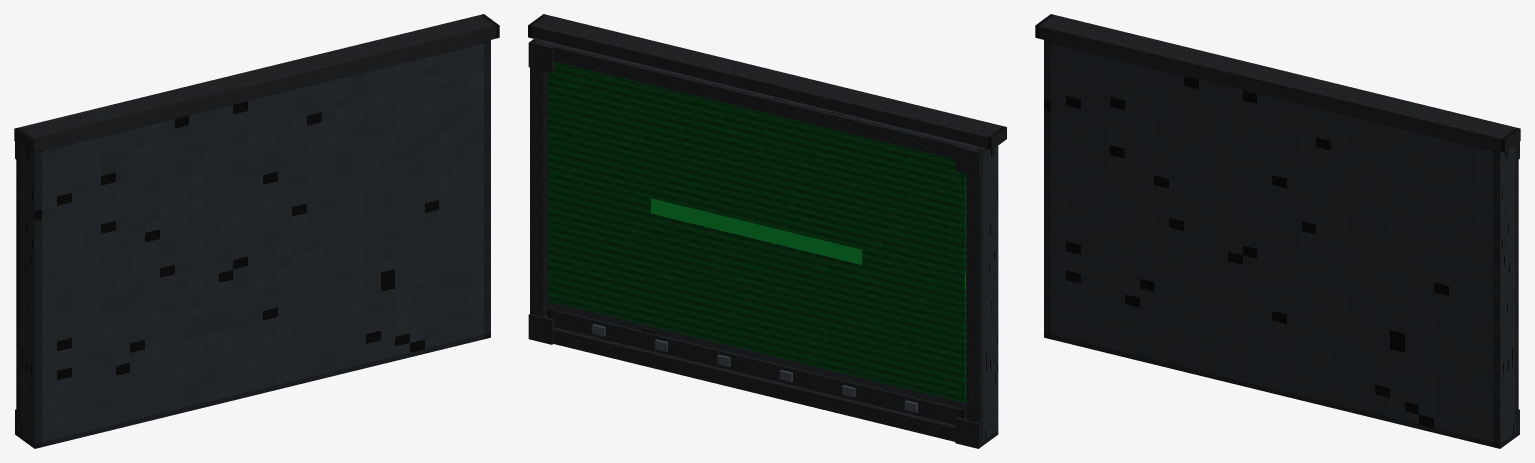
Rendered from star_chart_display.glb.
The picture shows the model from 3 angles, left to right: view 1: azimuth 30°, elevation 25°; view 2: azimuth 150°, elevation 25°; view 3: azimuth 330°, elevation 25°; orthographic projection.
Visible parts, largest first — view 1: star_chart_display; view 2: star_chart_display; view 3: star_chart_display.
Boxes of the visible parts, x1=… form: star_chart_display: x1=14, y1=14, x2=499, y2=448; star_chart_display: x1=528, y1=14, x2=1006, y2=448; star_chart_display: x1=1035, y1=14, x2=1520, y2=448.
Bounding box in the file's own units: 1.39 × 0.8825 × 0.112.
1 material, 1 textured.
